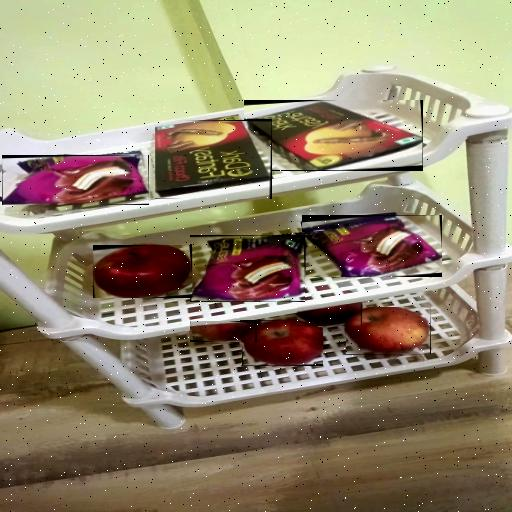Apple: (93, 245, 192, 298), (346, 308, 431, 356), (240, 320, 322, 366), (190, 322, 256, 344), (297, 304, 362, 326)
Choco Fills: (244, 100, 423, 171), (155, 120, 272, 199)
Choco Pie: (302, 215, 442, 277), (190, 235, 305, 302), (2, 155, 149, 205)
